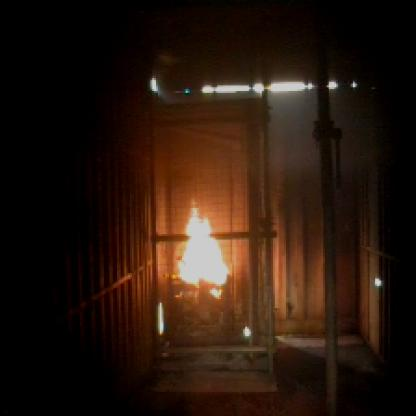Fire: (176, 200, 238, 302)
